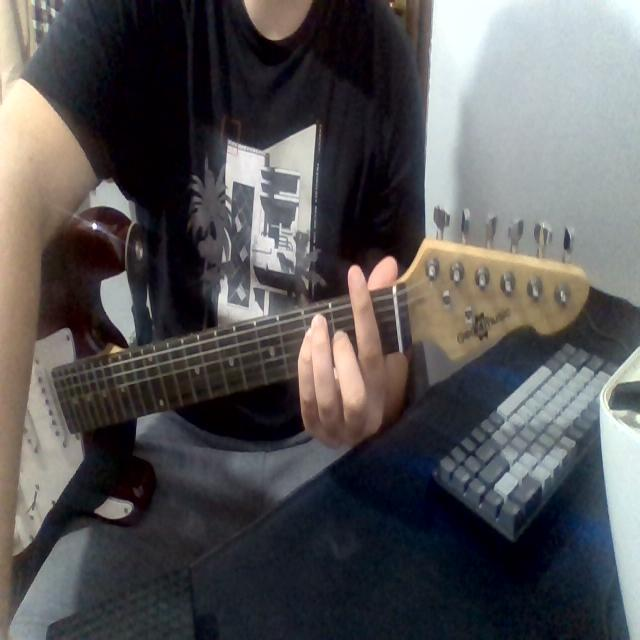F: (302, 258, 407, 488)
